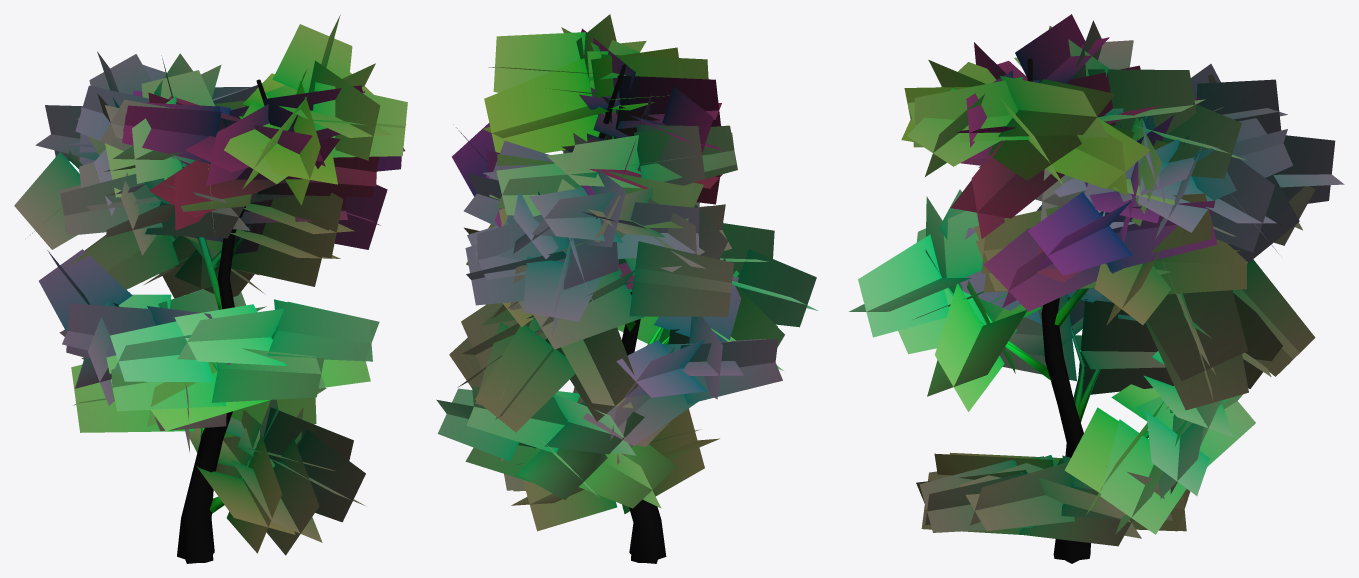
The model's file is M_Realistic12_6.fbx.
The picture shows the model from 3 angles, left to right: view 1: azimuth 30°, elevation 25°; view 2: azimuth 150°, elevation 25°; view 3: azimuth 270°, elevation 25°; orthographic projection. The views are drawn at different scales.
Visible parts, largest first — view 1: Tree_6; view 2: Tree_6; view 3: Tree_6.
Boxes of the visible parts, x1=… form: Tree_6: x1=14, y1=15, x2=407, y2=563; Tree_6: x1=436, y1=14, x2=818, y2=563; Tree_6: x1=849, y1=14, x2=1344, y2=563.
Size of the model in its own units: 1184 by 1672 by 1389.
